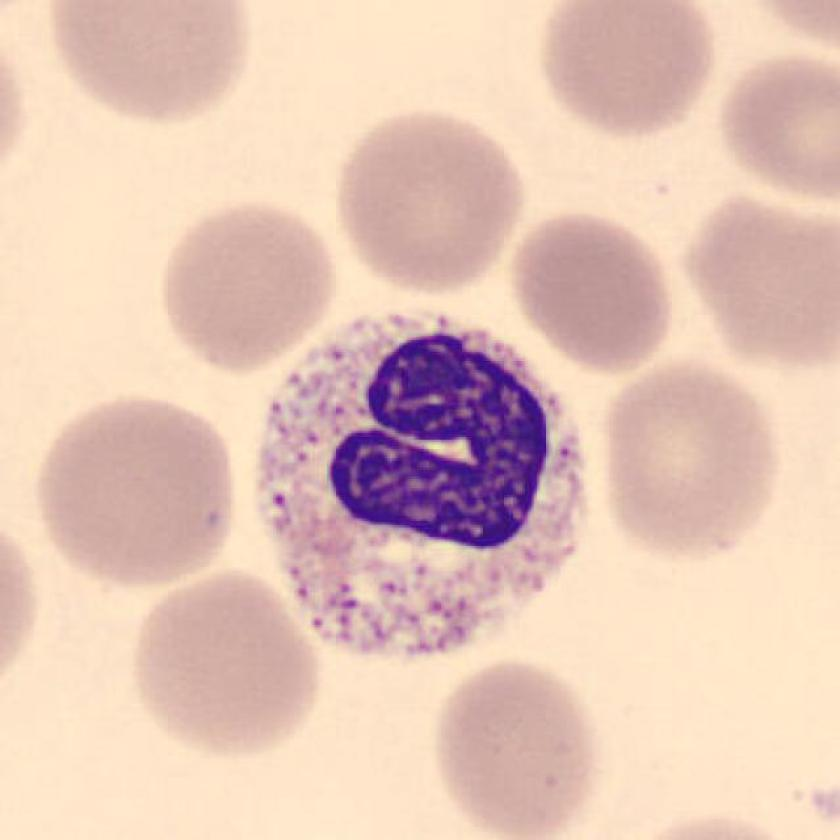neutrophil: (256, 312, 585, 656)
